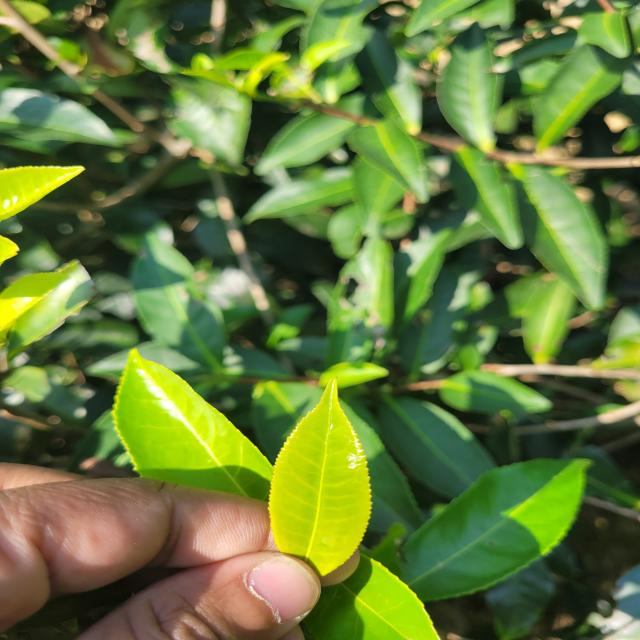Catagory A(1-2 days): (270, 367, 382, 588)
